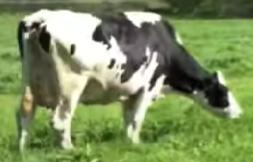cow: (16, 9, 244, 152)
